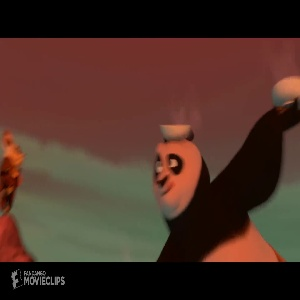po: (147, 73, 300, 262)
